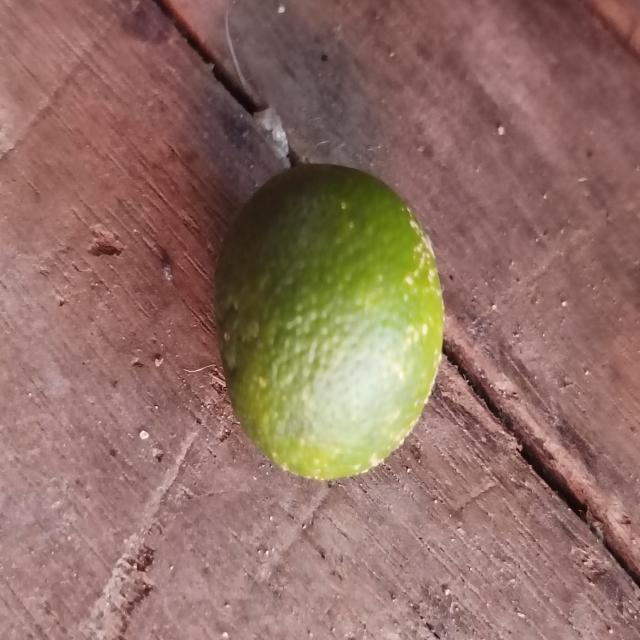scab: (208, 160, 466, 489)
